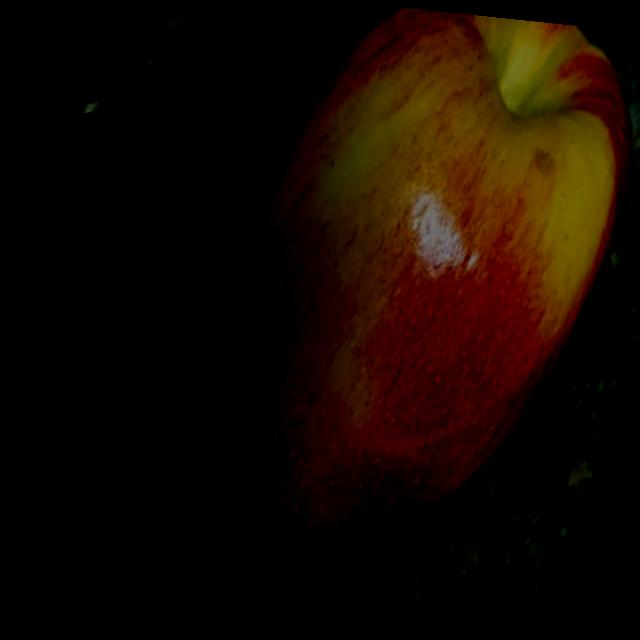Apple: (177, 0, 640, 617)
